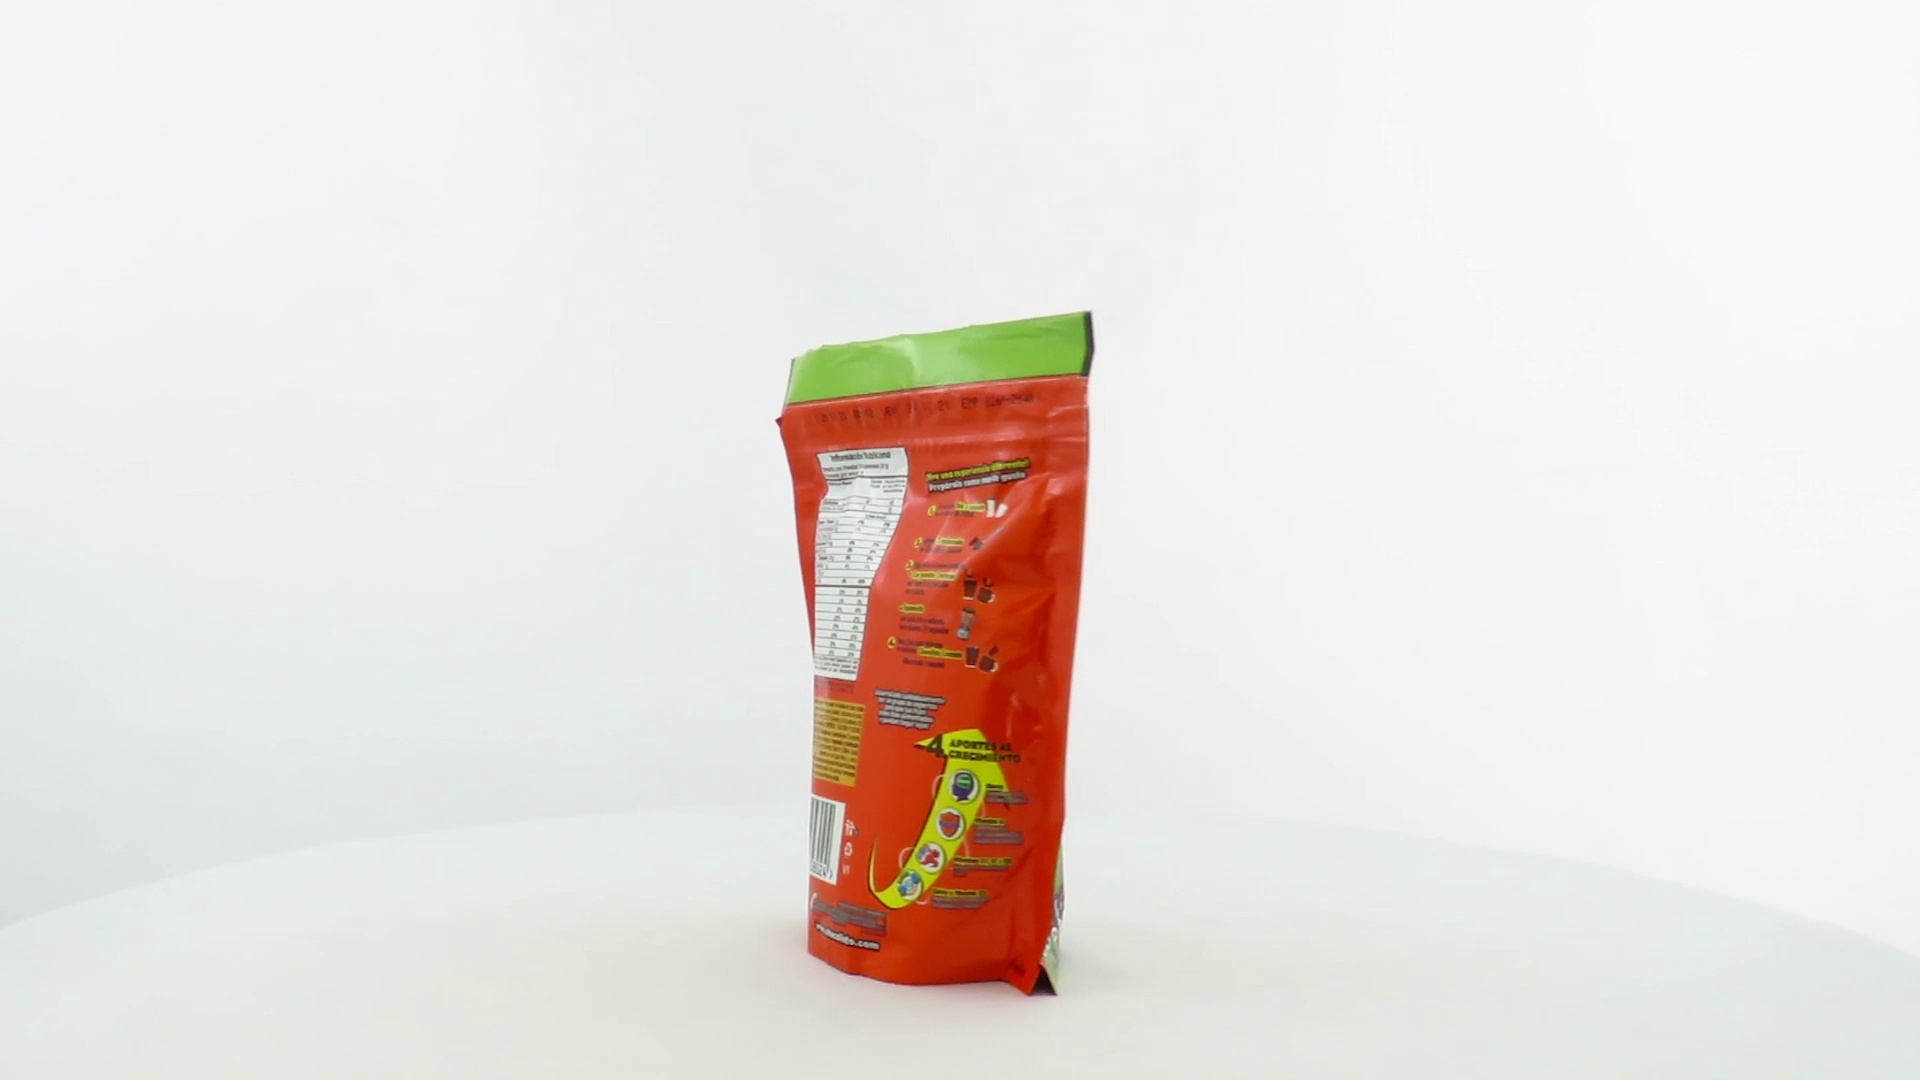COL0170102DYP10000: (770, 306, 1101, 1004)
